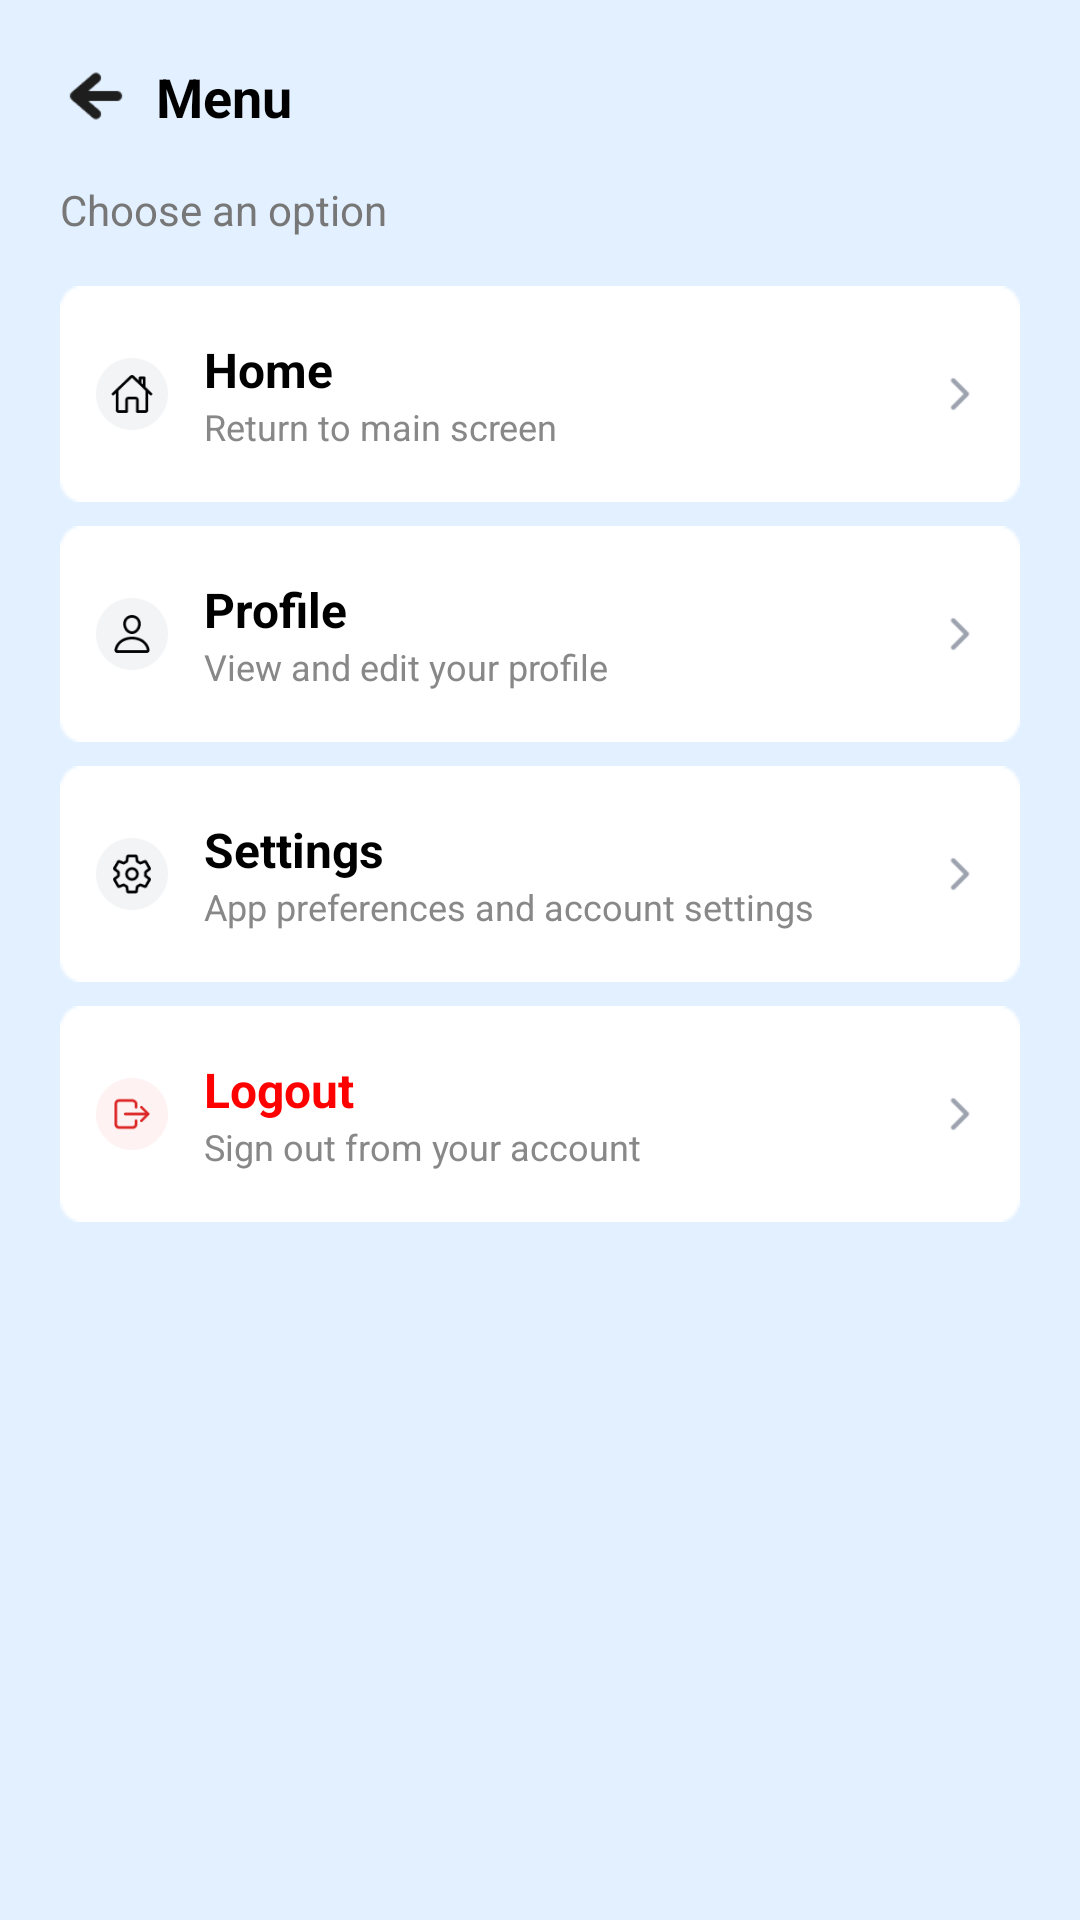

Icon click points for this 1080w x 1920h phone screenshot, format [x,y]:
Back: [96,96]
menuright: [960,394], [960,634], [960,874], [960,1114]
